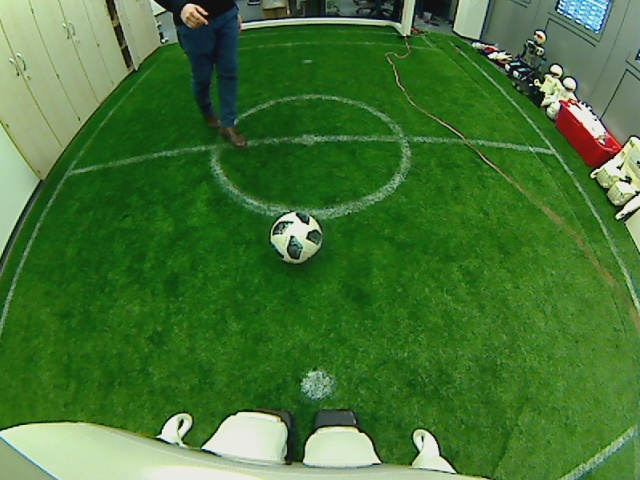ball: (267, 209, 324, 263)
